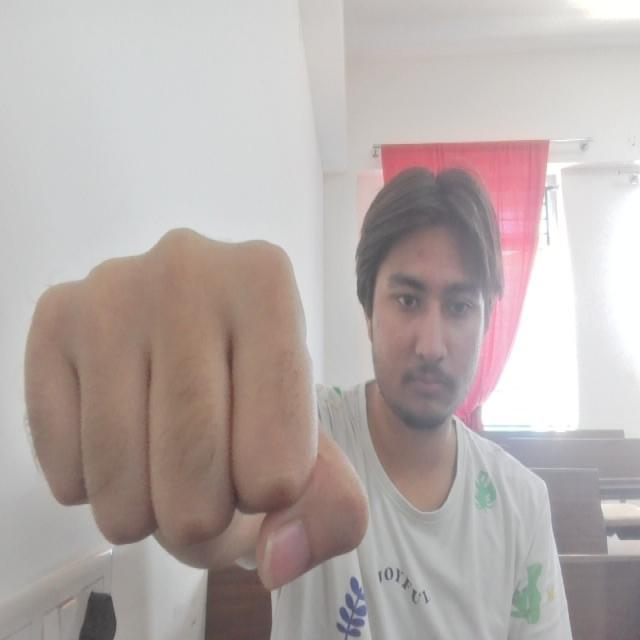yes: (21, 222, 374, 596)
